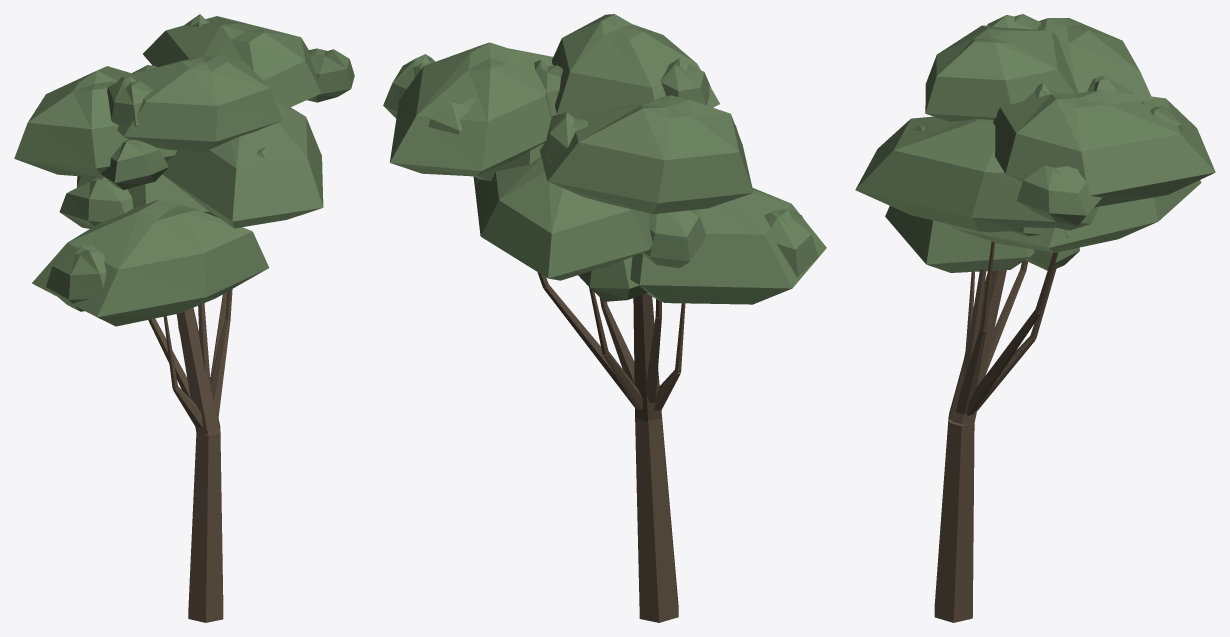
File: field-tree-leaning-lite.glb
3 views of the same model, side by side, from view 1: azimuth 30°, elevation 25°; view 2: azimuth 150°, elevation 25°; view 3: azimuth 270°, elevation 25° (orthographic). The views are drawn at different scales.
Parts seen in each view (by area): view 1: field-tree-leaning-lite / crown, field-tree-leaning-lite / trunk; view 2: field-tree-leaning-lite / crown, field-tree-leaning-lite / trunk; view 3: field-tree-leaning-lite / crown, field-tree-leaning-lite / trunk.
Part boxes in pixels (<box>): field-tree-leaning-lite / crown: <box>14,14,354,326</box>; field-tree-leaning-lite / trunk: <box>148,289,232,622</box>; field-tree-leaning-lite / crown: <box>383,14,826,304</box>; field-tree-leaning-lite / trunk: <box>537,272,685,622</box>; field-tree-leaning-lite / crown: <box>855,14,1215,272</box>; field-tree-leaning-lite / trunk: <box>934,241,1058,622</box>.
Bounding box in the file's own units: 5.42 × 8.23 × 4.57.
